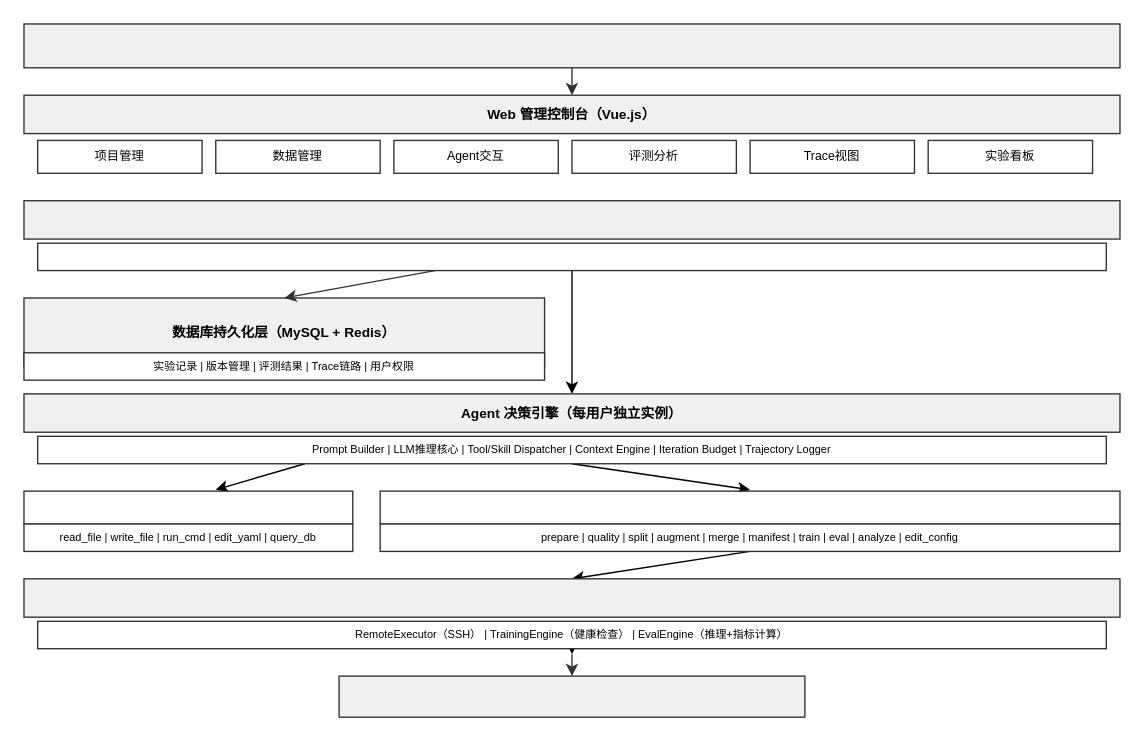
Image size: 1144x741. Some labels were removed from this diagram. The centre of each missing label's shape, as x and y in pixels:
RESTful API 服务层（FastAPI）: point (571, 219)
用户层（浏览器）: point (571, 45)
远程 GPU 训练集群: point (571, 696)
远程训练环境适配层: point (571, 597)
通用工具层（Tool）: point (188, 507)
项目接口 | 数据接口 | 热词接口 | Agent接口 | Trace接口 | 版本接口 | 认证接口: point (571, 256)
领域技能层（Skill）— 10个ASR处理技能: point (749, 507)
